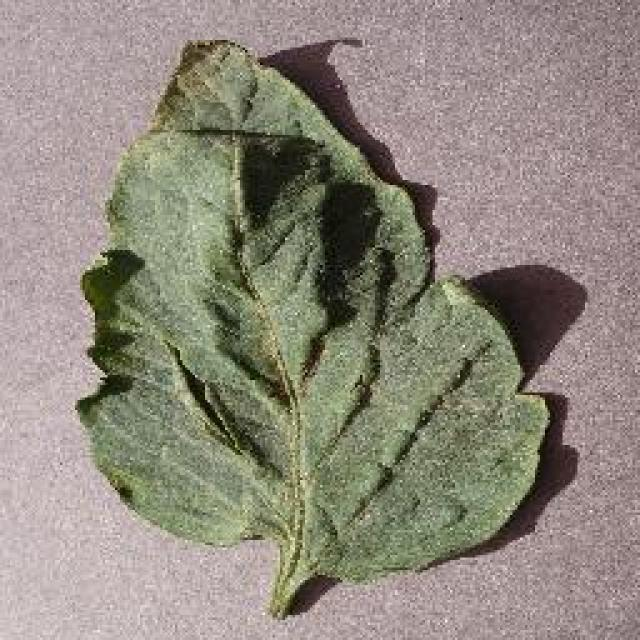Tomato___Target_Spot: (78, 40, 548, 615)
